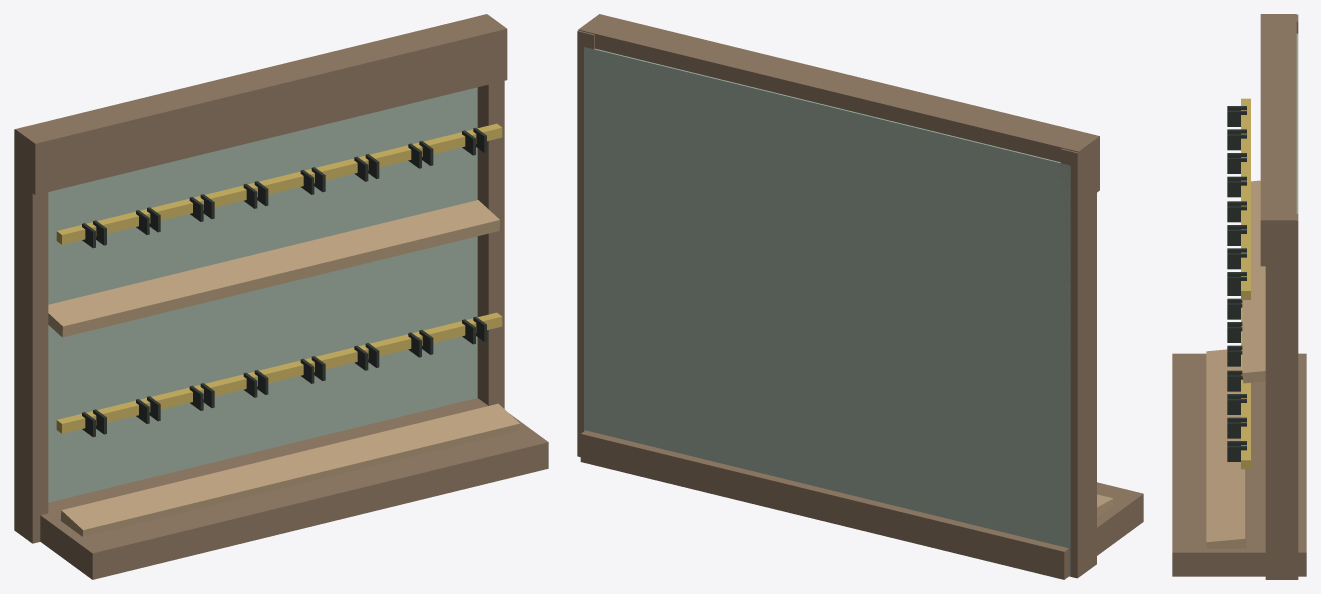
File: club_wall_bay.glb
3 views of the same model, side by side, from view 1: azimuth 30°, elevation 25°; view 2: azimuth 150°, elevation 25°; view 3: azimuth 270°, elevation 25° (orthographic). The views are drawn at different scales.
Visible parts, largest first — view 1: club_wall_bay; view 2: club_wall_bay; view 3: club_wall_bay.
Part boxes in pixels (x1,y1,x2,y2): club_wall_bay: [14, 14, 548, 579]; club_wall_bay: [577, 14, 1143, 579]; club_wall_bay: [1172, 14, 1306, 579].
Bounding box in the file's own units: 2.98 × 2.42 × 0.82.
